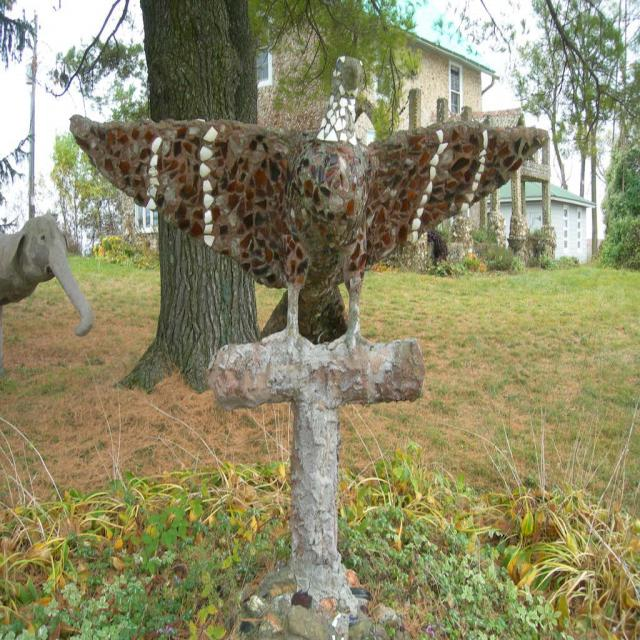elephant: (0, 213, 95, 337)
